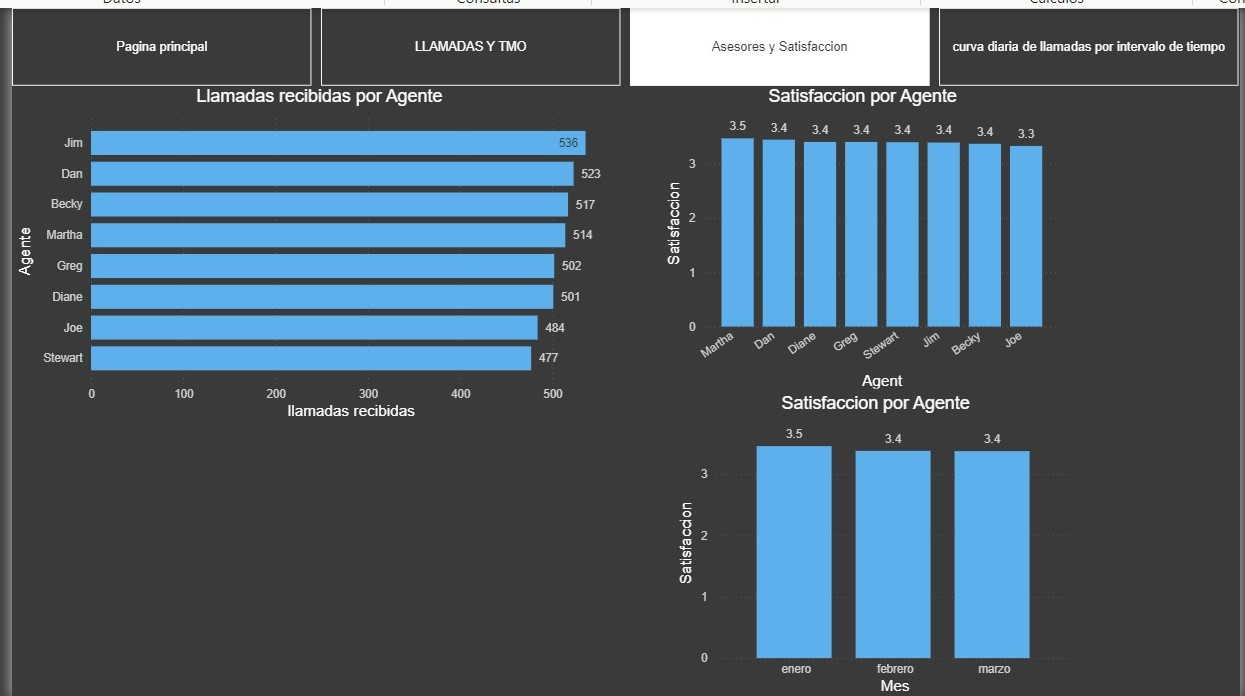

What the dashboard file says about the page in this screenshot:
{"tool":"powerbi","page":{"name":"Asesores y Satisfaccion","canvas":[1280,720],"ordinal":2},"visuals":[{"type":"pageNavigator","box":[0,0,1279.4,81.3],"z":0},{"type":"clusteredBarChart","title":"Llamadas recibidas por Agente","fields":{"Category":["Data.Agent"],"Y":["Indicadores.llamadas recibidas"]},"box":[0,81.5,640.7,351.4],"z":1000},{"type":"clusteredColumnChart","title":"Satisfaccion por Agente","fields":{"Category":["Data.Agent"],"Y":["Indicadores.Satisfaccion"]},"box":[677.5,81.5,419.3,320.3],"z":2000},{"type":"clusteredColumnChart","title":"Satisfaccion por Agente","fields":{"Y":["Indicadores.Satisfaccion"],"Category":["Data.fecha_Llamada.Variación.Jerarquía de fechas.Mes"]},"box":[689.2,401.9,421.3,318.4],"z":3000}]}

Visuals, with their boxes on the page's 1280x720 design canvas (x1, y1, x2, y2). These are canvas units, not pixel positions in the 1245x696 screenshot, which may show the page scaled, cropped or inside an application window:
pageNavigator: box=[0, 0, 1279, 81]
"Llamadas recibidas por Agente" clusteredBarChart: box=[0, 82, 641, 433]
"Satisfaccion por Agente" clusteredColumnChart: box=[678, 82, 1097, 402]
"Satisfaccion por Agente" clusteredColumnChart: box=[689, 402, 1110, 720]
